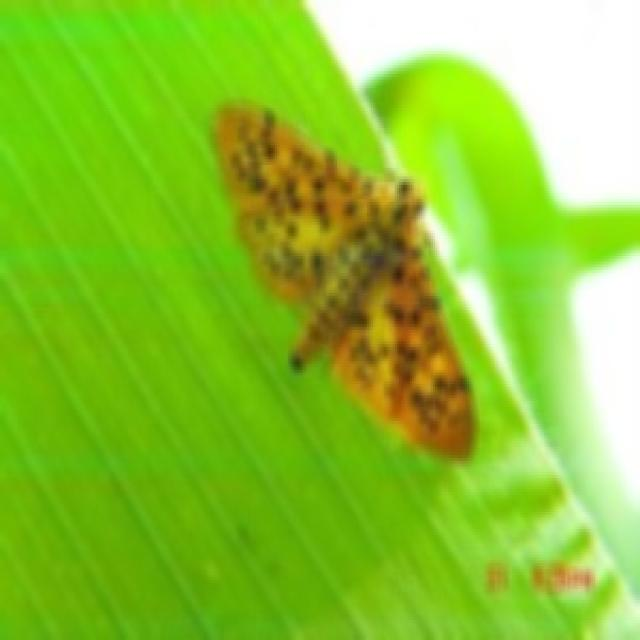peach borer: (205, 86, 480, 462)
